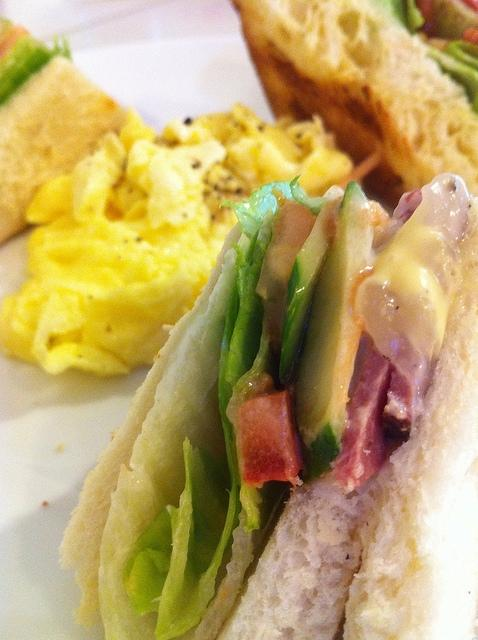cucumber: (295, 177, 374, 478), (280, 208, 331, 388)
lettuce: (98, 173, 322, 640), (280, 184, 346, 392), (0, 34, 73, 108), (427, 40, 478, 116)
